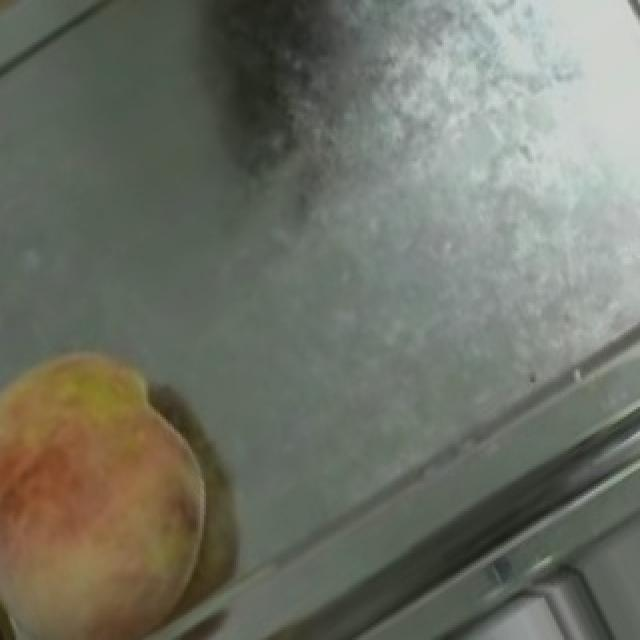Fruit: (0, 312, 254, 640)
